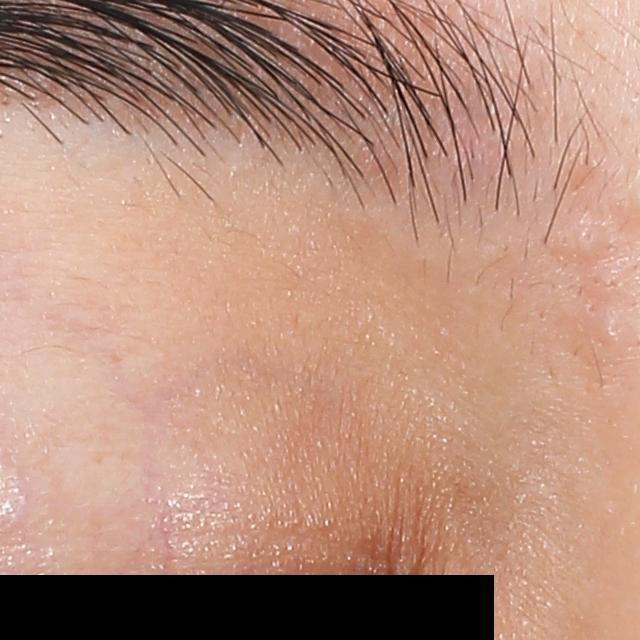comedo: (597, 315, 627, 345)
